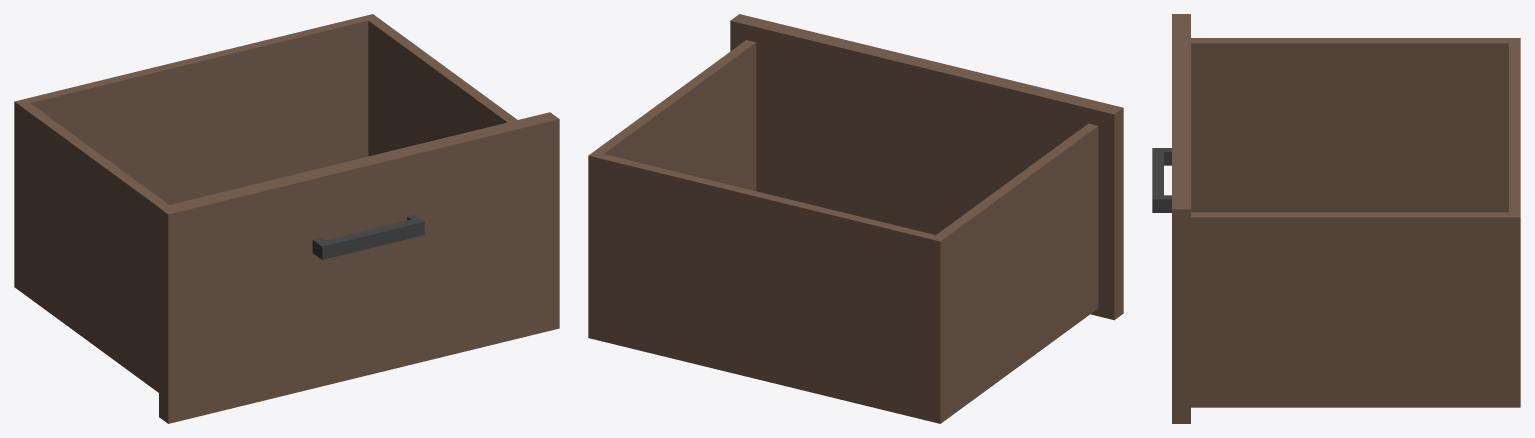
File: BathroomDoor_C2_03.fbx
3 renders of one model, left to right at view 1: azimuth 30°, elevation 25°; view 2: azimuth 150°, elevation 25°; view 3: azimuth 270°, elevation 25°, orthographic. The views are drawn at different scales.
Visible parts, largest first — view 1: BathroomDoor_C2_03; view 2: BathroomDoor_C2_03; view 3: BathroomDoor_C2_03.
Boxes of the visible parts, x1=… form: BathroomDoor_C2_03: x1=14, y1=14, x2=559, y2=423; BathroomDoor_C2_03: x1=588, y1=14, x2=1123, y2=423; BathroomDoor_C2_03: x1=1152, y1=14, x2=1520, y2=423.
Bounding box in the file's own units: 60 × 30.7 × 47.76.
